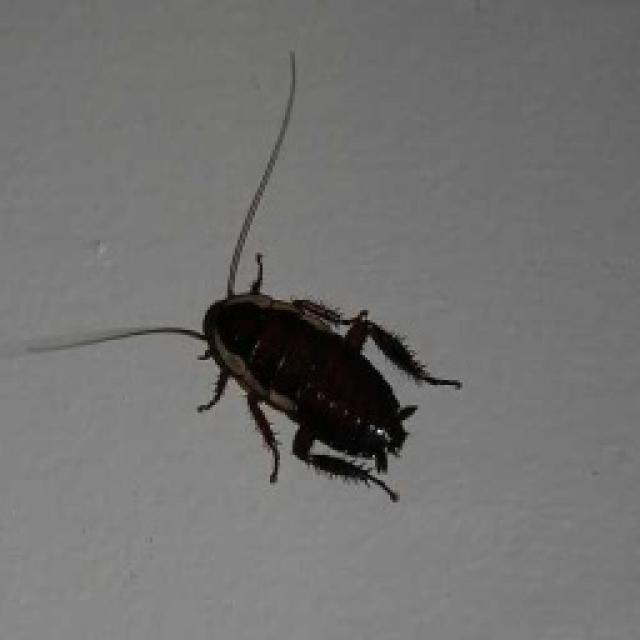cockroach: (159, 243, 469, 507)
